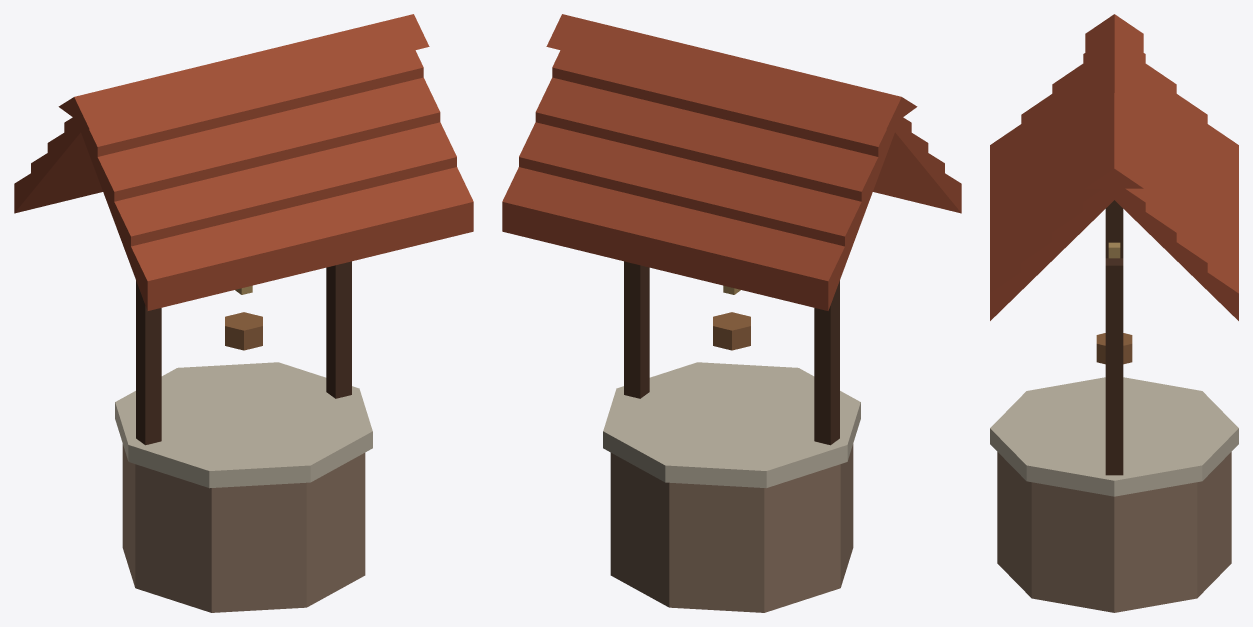
File: well.fbx
3 views of the same model, side by side, from view 1: azimuth 30°, elevation 25°; view 2: azimuth 150°, elevation 25°; view 3: azimuth 270°, elevation 25° (orthographic). The views are drawn at different scales.
Parts seen in each view (by area): view 1: well; view 2: well; view 3: well.
Boxes of the visible parts, bbox=[...] form: well: bbox=[14, 14, 473, 612]; well: bbox=[502, 14, 961, 612]; well: bbox=[990, 14, 1238, 612].
Size of the model in its own units: 2.5 by 3.56 by 1.7.
